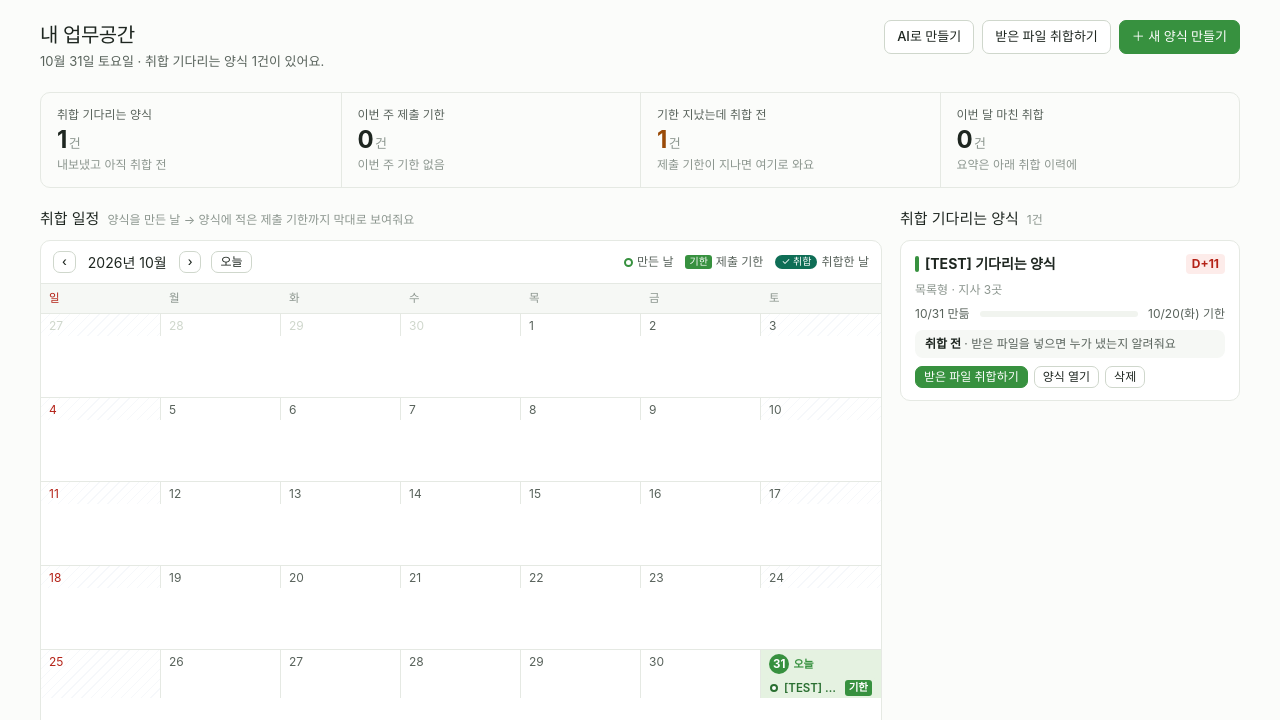
Scenario: 취합 기다리는 양식 카드의 [삭제]: 확인 창을 거쳐 양식을 지우고 기다리는 목록·달력에서 바로 사라진다
This screenshot has width=1280, height=720.
Step 1. Click the button with aria-label "취합 기다리는 양식 [TEST] 기다리는 양식 삭제" → x=1125, y=377, box top-left (1105, 366), bottom-right (1145, 388)
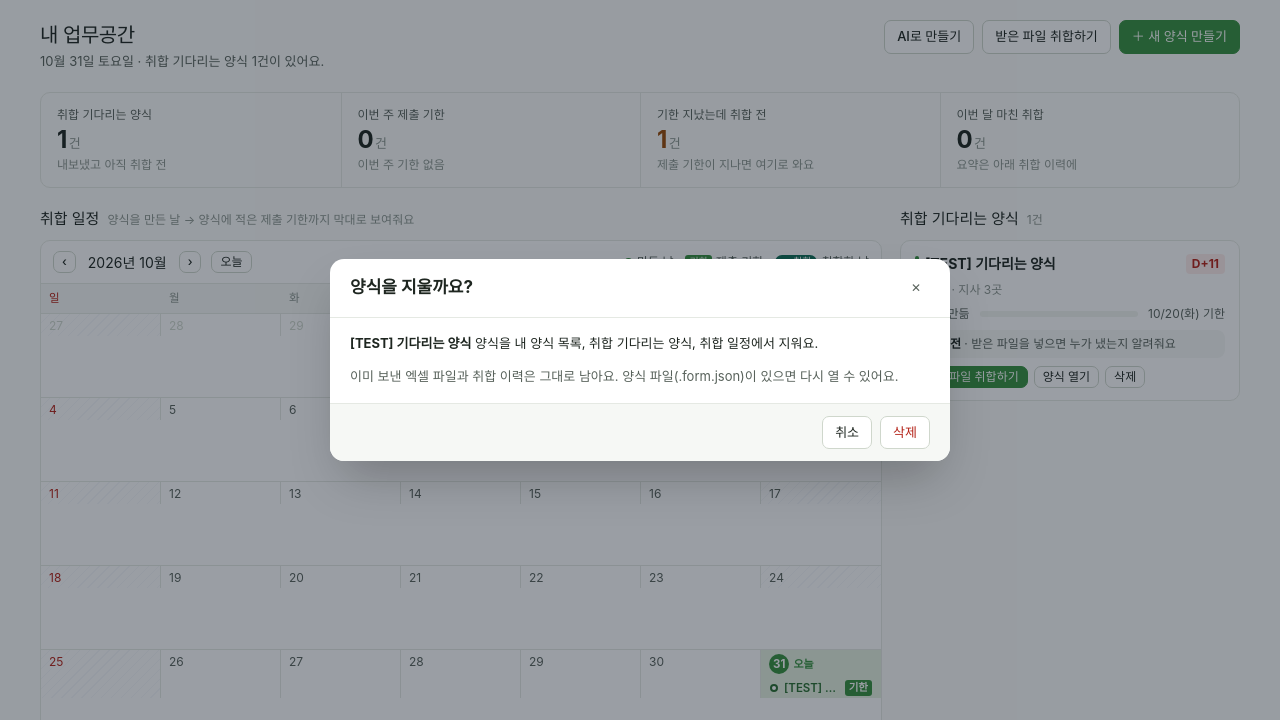
Step 2. Click the button "삭제" → x=905, y=432, box top-left (880, 416), bottom-right (930, 449)
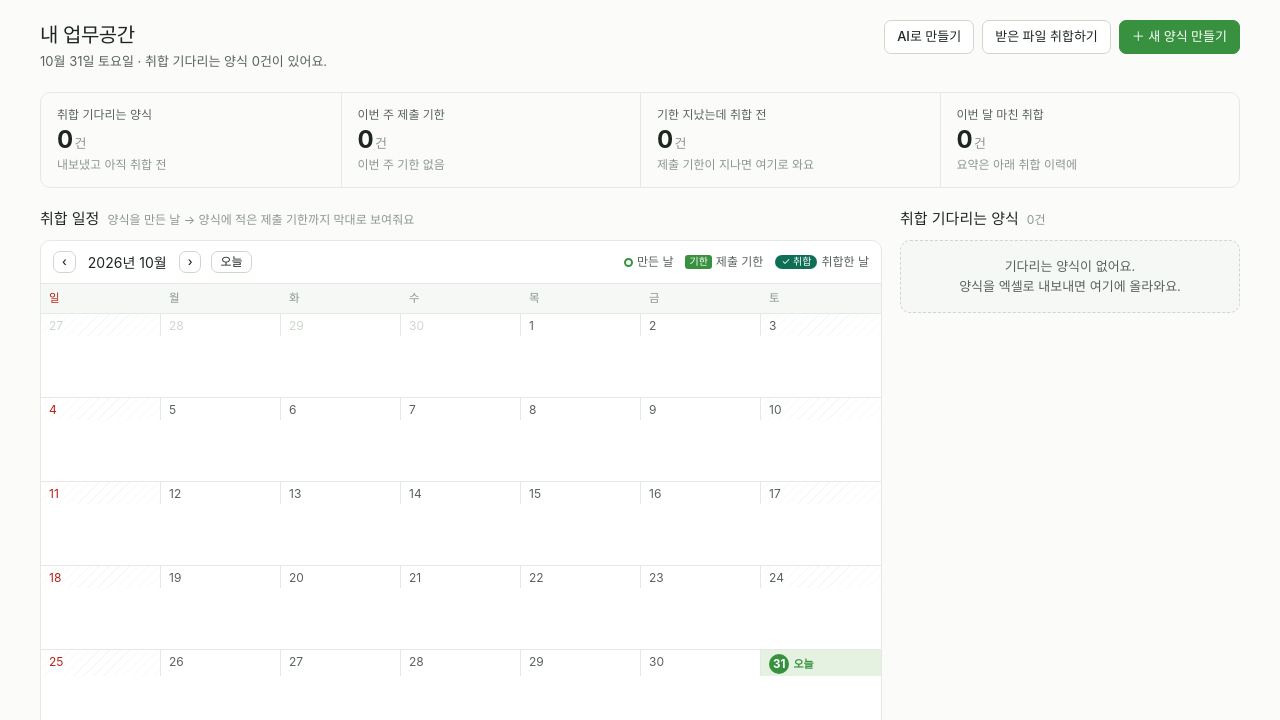
Expected: the button "[TEST] 기다리는 양식" is gone
Expected: the text "기다리는 양식이 없어요.양식을 엑셀로 내보내면 여기에 올라와요." is shown, top-left (900, 240), bottom-right (1240, 313)
